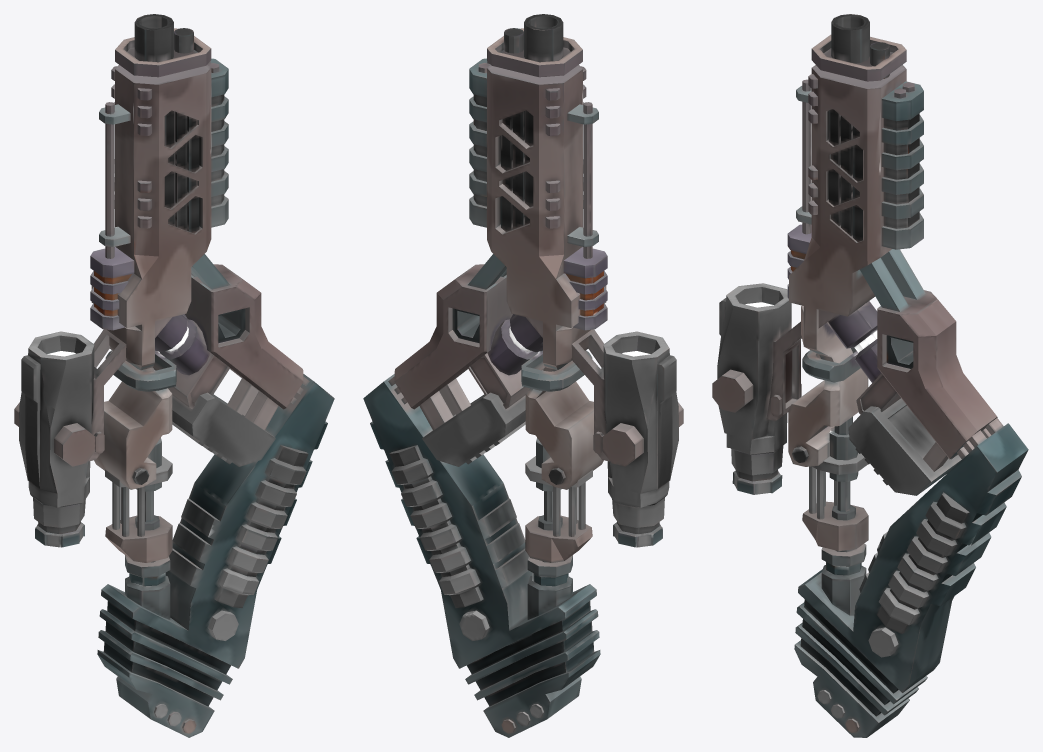
The model's file is AssultRifle.fbx.
3 views of the same model, side by side, from view 1: azimuth 30°, elevation 25°; view 2: azimuth 150°, elevation 25°; view 3: azimuth 330°, elevation 25° (orthographic).
Visible parts, largest first — view 1: AssultRifle; view 2: AssultRifle; view 3: AssultRifle.
Boxes of the visible parts, x1,y1,x2,y2 form: AssultRifle: (14, 14, 334, 737); AssultRifle: (363, 14, 683, 737); AssultRifle: (712, 14, 1028, 737).
Bounding box in the file's own units: 0.3158 × 0.7335 × 0.0915.
Materials: 1 (1 with a texture image).
